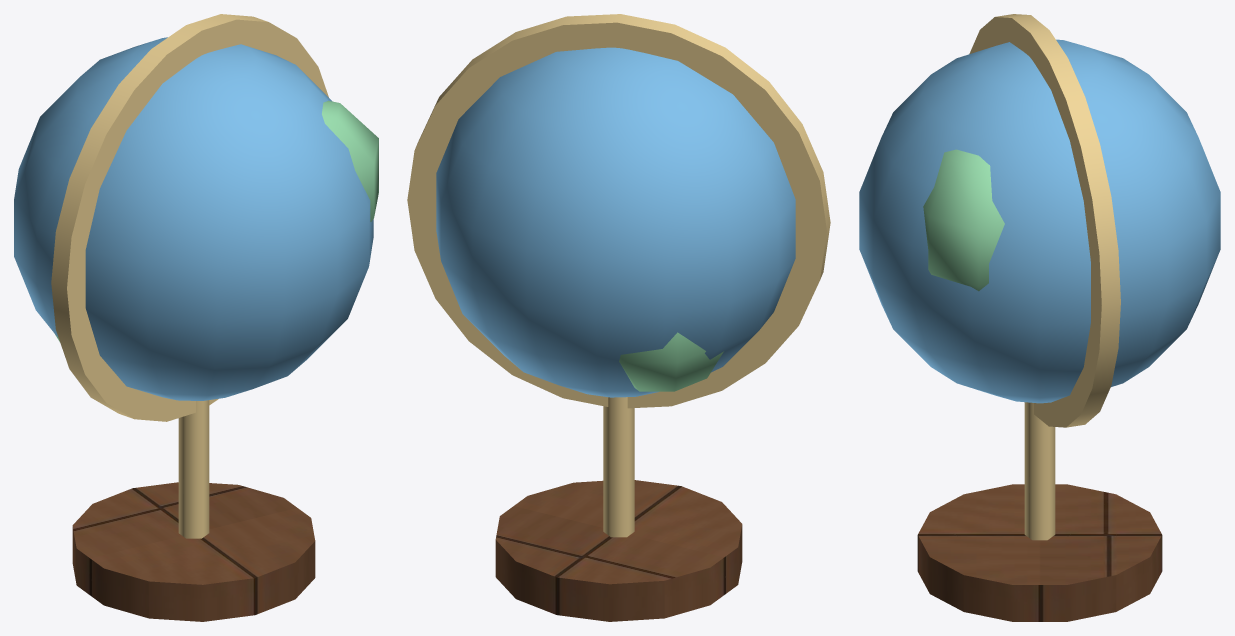
The picture shows the model from 3 angles, left to right: view 1: azimuth 30°, elevation 25°; view 2: azimuth 150°, elevation 25°; view 3: azimuth 270°, elevation 25°; orthographic projection. The views are drawn at different scales.
Parts seen in each view (by area): view 1: Decor_globe; view 2: Decor_globe; view 3: Decor_globe.
Part boxes in pixels (x1,y1,x2,y2): Decor_globe: [14, 14, 378, 621]; Decor_globe: [407, 14, 830, 621]; Decor_globe: [859, 14, 1220, 621].
Bounding box in the file's own units: 0.3921 × 0.585 × 0.3545.
Materials: 4 (1 with a texture image).
